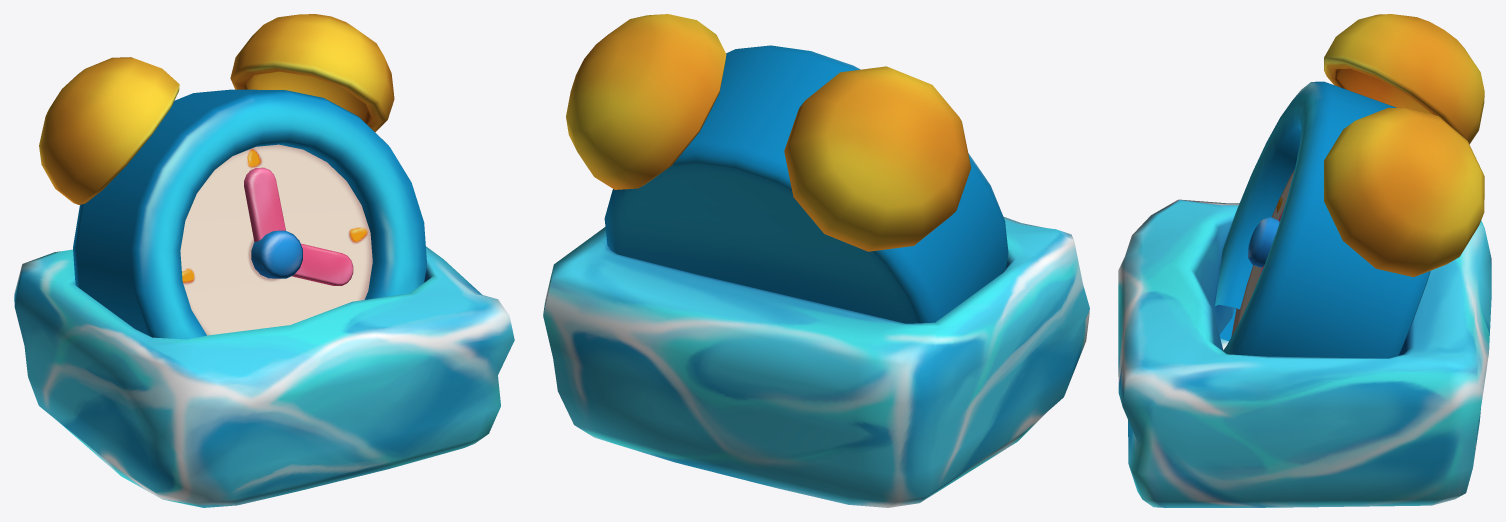
File: Freeze.fbx
3 renders of one model, left to right at view 1: azimuth 30°, elevation 25°; view 2: azimuth 150°, elevation 25°; view 3: azimuth 270°, elevation 25°, orthographic. The views are drawn at different scales.
Visible parts, largest first — view 1: Freeze; view 2: Freeze; view 3: Freeze.
Part boxes in pixels (x1=…): Freeze: x1=14, y1=14, x2=514, y2=507; Freeze: x1=543, y1=14, x2=1089, y2=507; Freeze: x1=1118, y1=14, x2=1491, y2=507.
Bounding box in the file's own units: 122 × 120 × 109.
